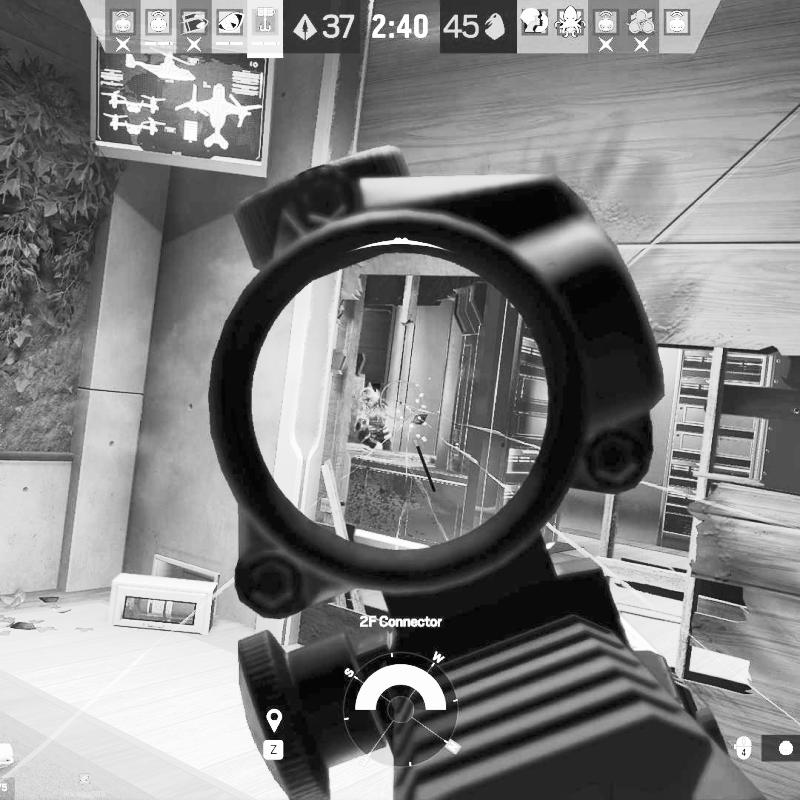Character: (353, 385, 395, 453)
Friend_label: (63, 772, 106, 798)
Head: (361, 387, 377, 406)
